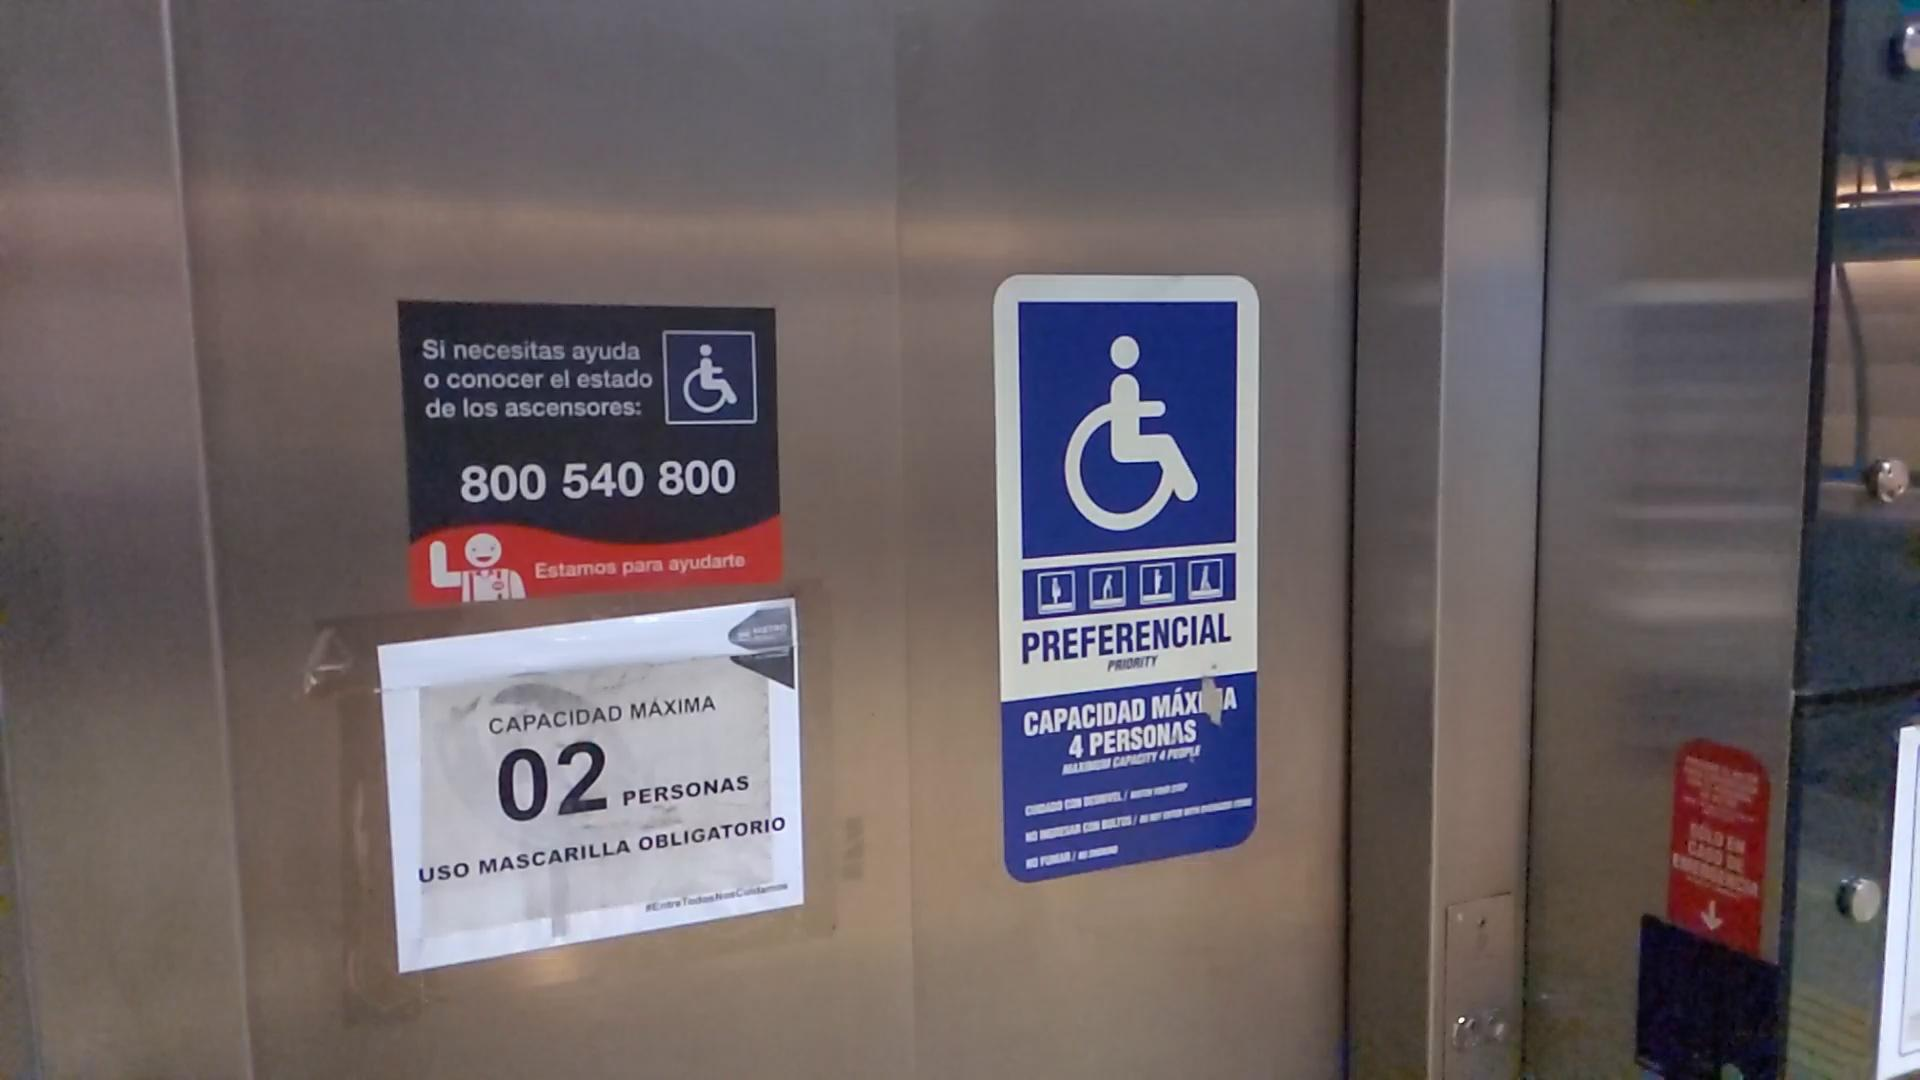handicapped symbol: (1060, 334, 1201, 533), (682, 342, 738, 417)
